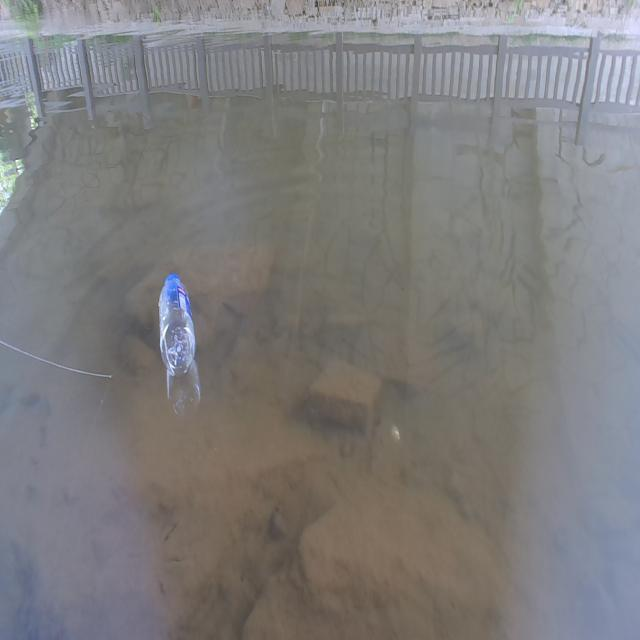bottle: (146, 261, 219, 383)
